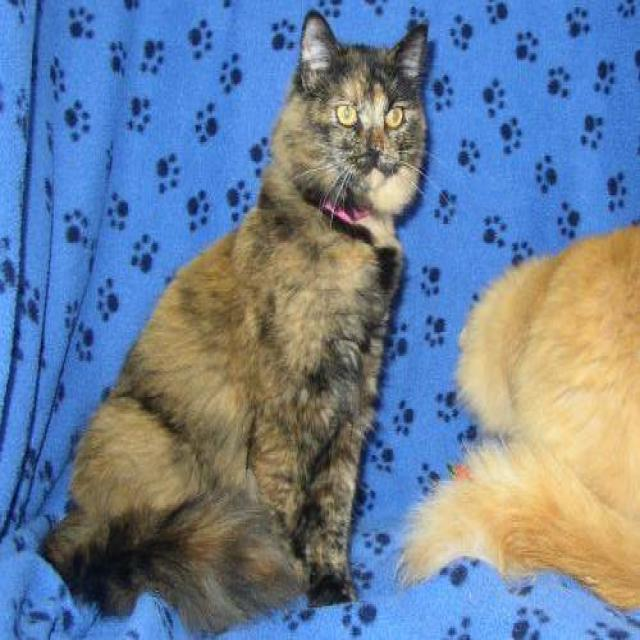cat: (39, 8, 432, 635), (394, 219, 639, 613)
